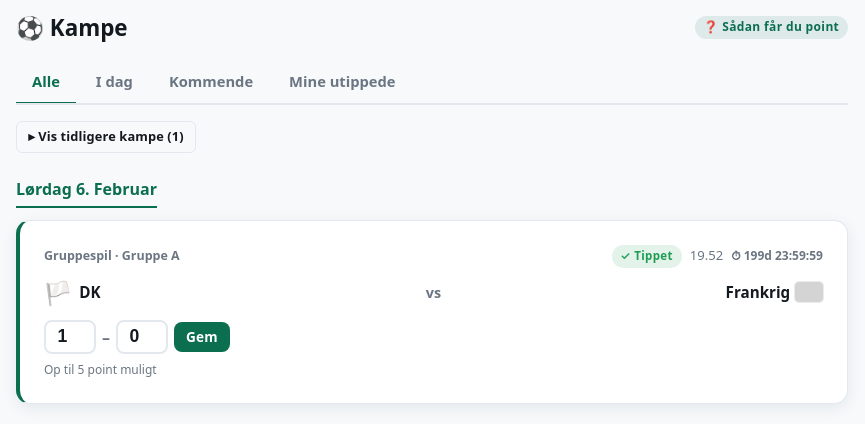
MatchesPage – filtre › filteret "Mine utippede" viser ingen kampe hvis alle er tippede
Step 1. Click the button with test id "filter-utippede" → {"x": 342, "y": 83}, box x1=273 y1=61 x2=412 y2=105
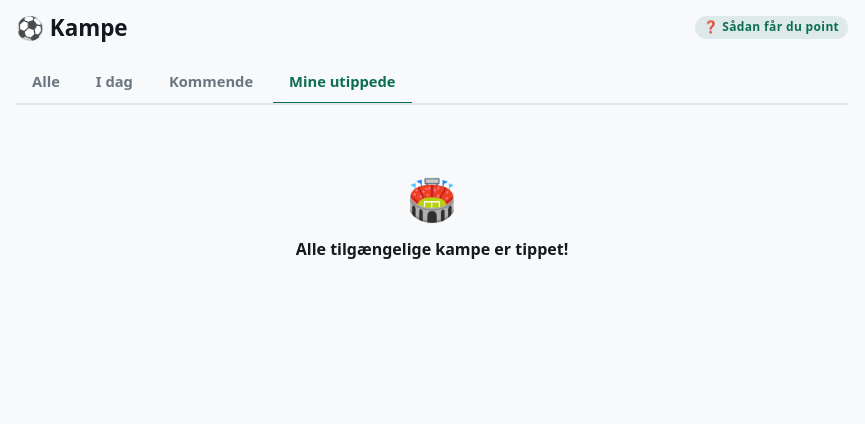
expect the element with test id "match-card" is gone: met
expect the text "Alle tilgængelige kampe er tippet!" is shown: met, box x1=296 y1=238 x2=568 y2=260
